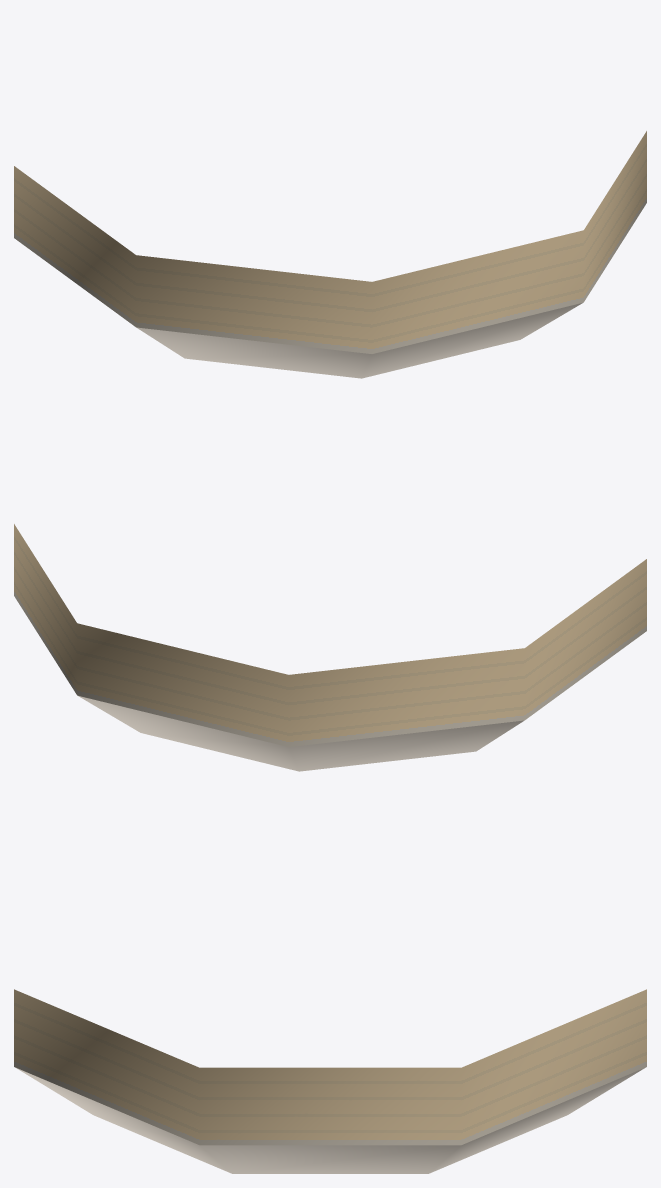
The model's file is kd_stage_135ded_4_80_exterior.glb.
The picture shows the model from 3 angles, top to bottom: view 1: azimuth 30°, elevation 25°; view 2: azimuth 150°, elevation 25°; view 3: azimuth 270°, elevation 25°; orthographic projection. The views are drawn at different scales.
Parts seen in each view (by area): view 1: kd_stage_135ded_4_80_exterior; view 2: kd_stage_135ded_4_80_exterior; view 3: kd_stage_135ded_4_80_exterior.
Boxes of the visible parts, x1,y1,x2,y2 form: kd_stage_135ded_4_80_exterior: (14, 131, 646, 378); kd_stage_135ded_4_80_exterior: (14, 524, 646, 771); kd_stage_135ded_4_80_exterior: (14, 989, 646, 1173).
Size of the model in its own units: 0.7391 by 0.18 by 0.7391.
1 material, 1 textured.
